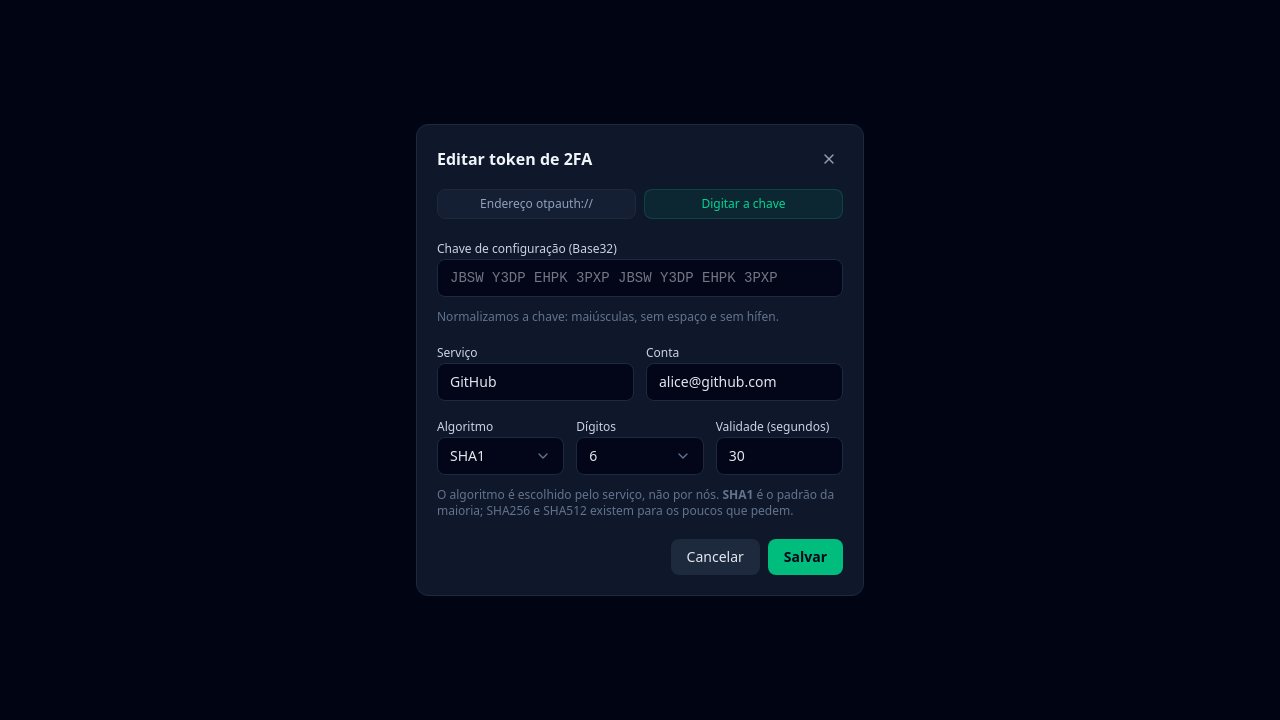
Scenario: tela do verificador 2FA › usa a mensagem padrão quando a falha ao salvar não é um Error
This screenshot has width=1280, height=720.
Type "GEZDGNBVGY3TQOJQGEZDGNBVGY3TQOJQ" into the field with placeholder "JBSW Y3DP EHPK 3PXP JBSW Y3DP EHPK 3PXP" at (640, 278), box [437,259,843,297]
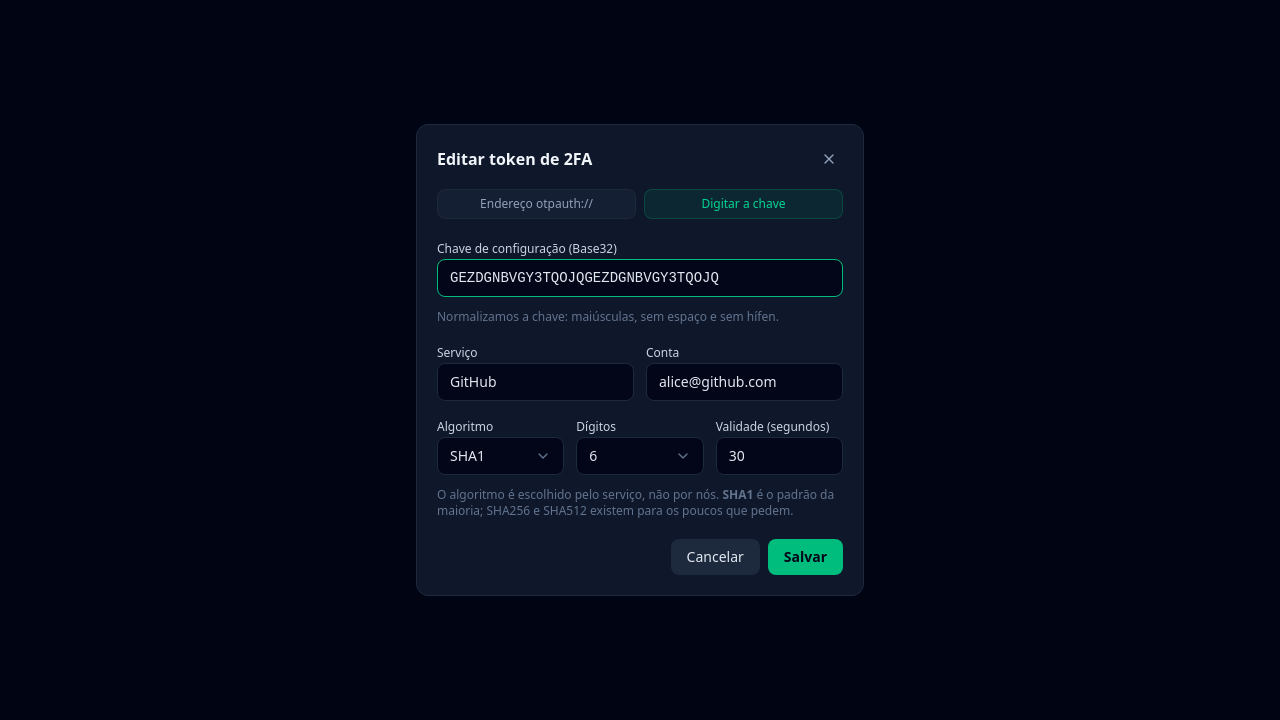
Click the button "Salvar" at (805, 557), box [768,539,843,575]
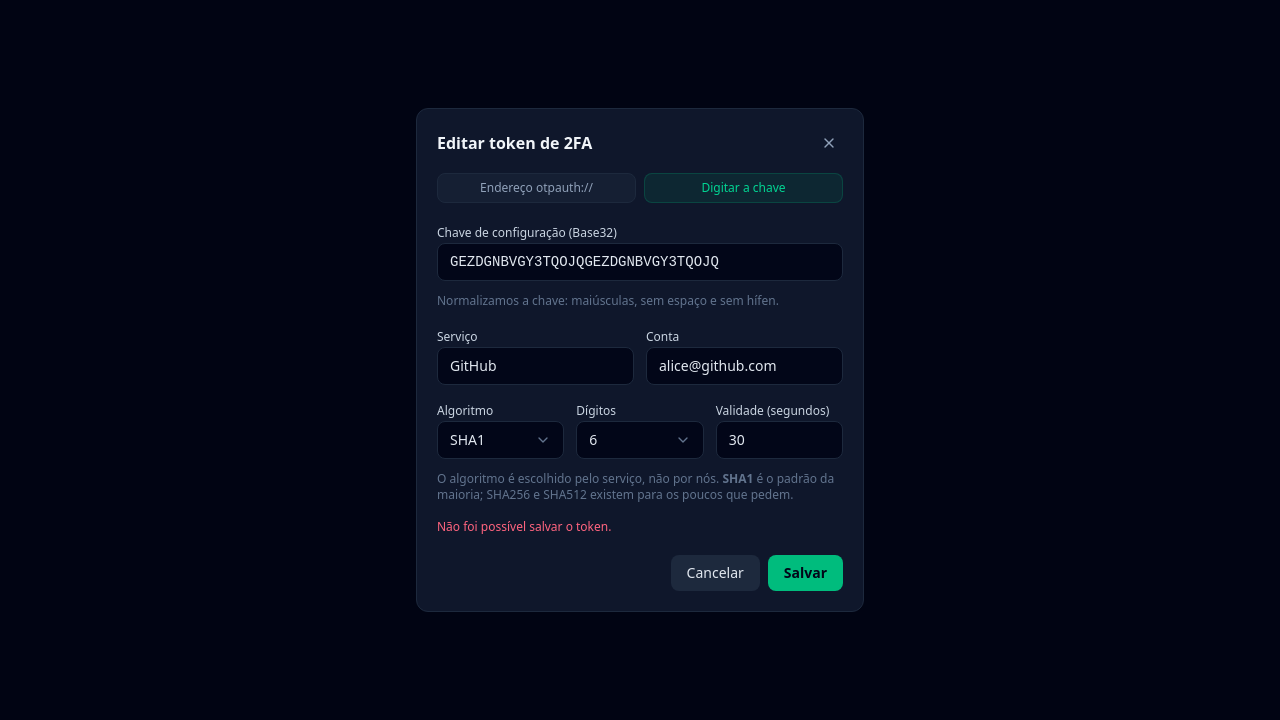
Result: the text "Não foi possível salvar o token." is shown at [437,518,611,535]
